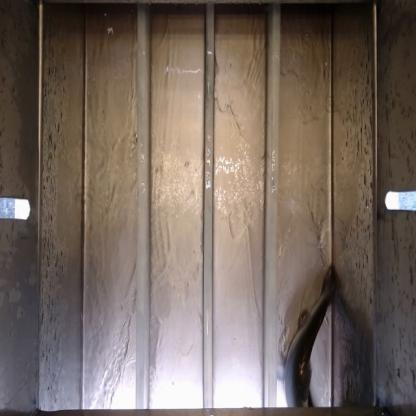pezw: (282, 251, 336, 408)
